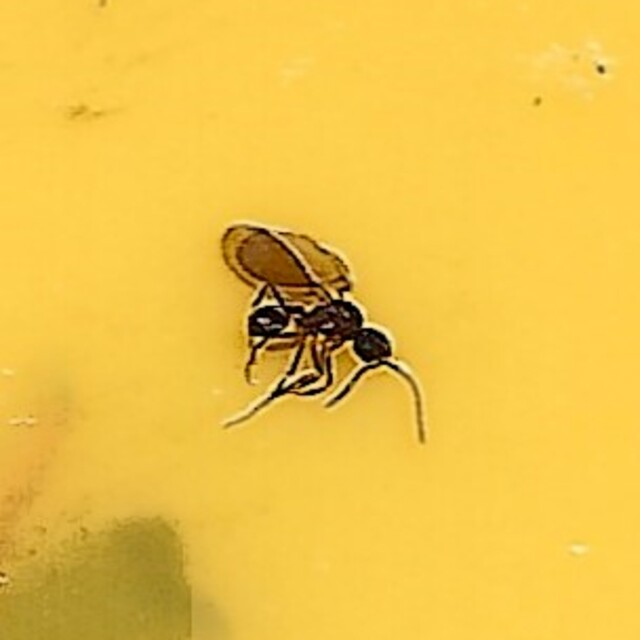Hymenoptera: (211, 204, 429, 436)
